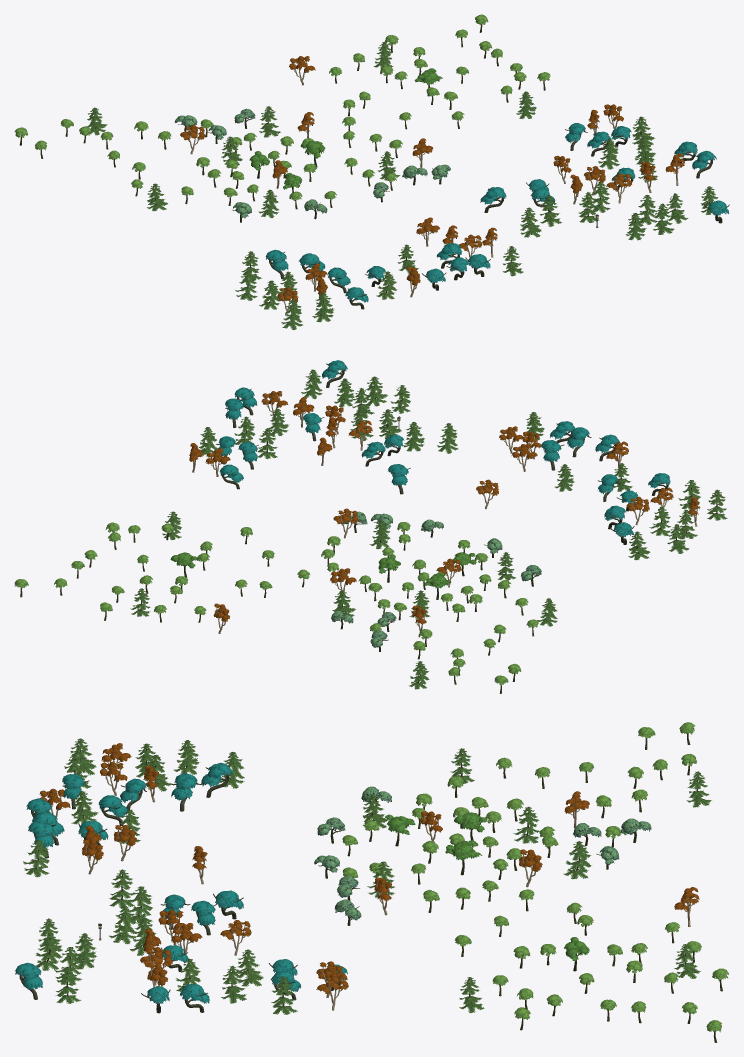
Rendered from overworld-1-3.gltf.
3 views of the same model, one above another, from view 1: azimuth 30°, elevation 25°; view 2: azimuth 150°, elevation 25°; view 3: azimuth 270°, elevation 25° (orthographic). The views are drawn at different scales.
Visible parts, largest first — view 1: no part large enough to name; view 2: no part large enough to name; view 3: 7e2e11a73c6c1f6b77c7c18c44a87655900818e94c168e7a92bb0a48cc87 (×13), 883bf022a4c95c0b0a24ce14e7511dc7b18eb62759134961097aa30193af (×6), cf73d73e4a52b629e942c4cf3ba67a960257f3fda86af0eadf8051aa3c1f.
Part boxes in pixels (x1=…): 7e2e11a73c6c1f6b77c7c18c44a87655900818e94c168e7a92bb0a48cc87 (×13): x1=23, y1=740, x2=591, y2=1014; 883bf022a4c95c0b0a24ce14e7511dc7b18eb62759134961097aa30193af (×6): x1=15, y1=762, x2=233, y2=1012; cf73d73e4a52b629e942c4cf3ba67a960257f3fda86af0eadf8051aa3c1f: x1=445, y1=840, x2=482, y2=875.
Size of the model in its own units: 129 by 12.64 by 133.
14 materials, 13 textured.
